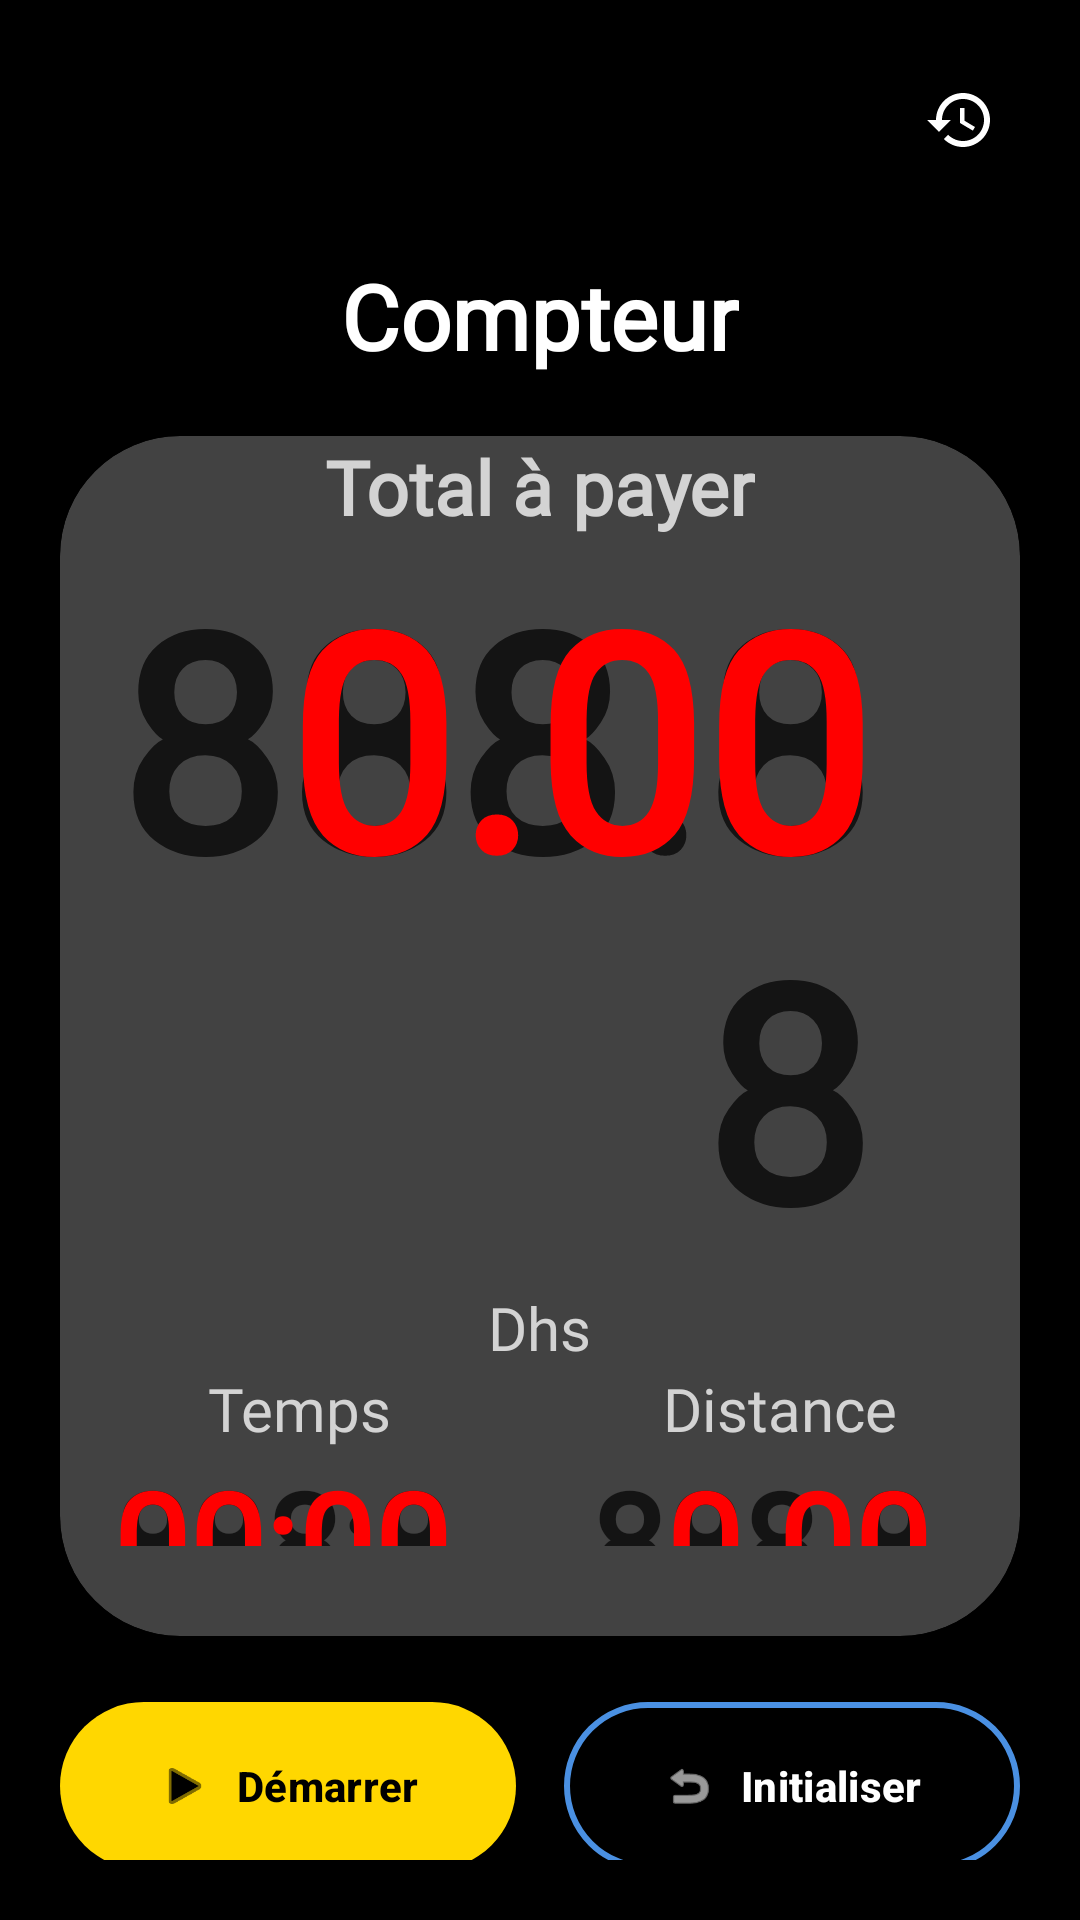

Icon click points for this 1080 x 1920 phone screenshot, format (x,y):
Historique: (958,120)
